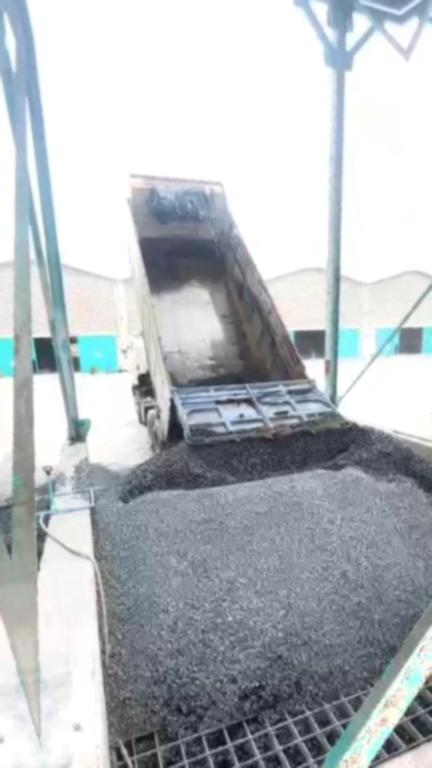gravel: (95, 432, 432, 735), (74, 414, 432, 512), (187, 281, 267, 386)
